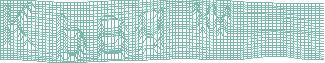B: (97, 14, 130, 59)
K: (2, 2, 37, 51)
b: (56, 13, 86, 61)
g: (136, 7, 165, 57)
w: (189, 1, 232, 38)
